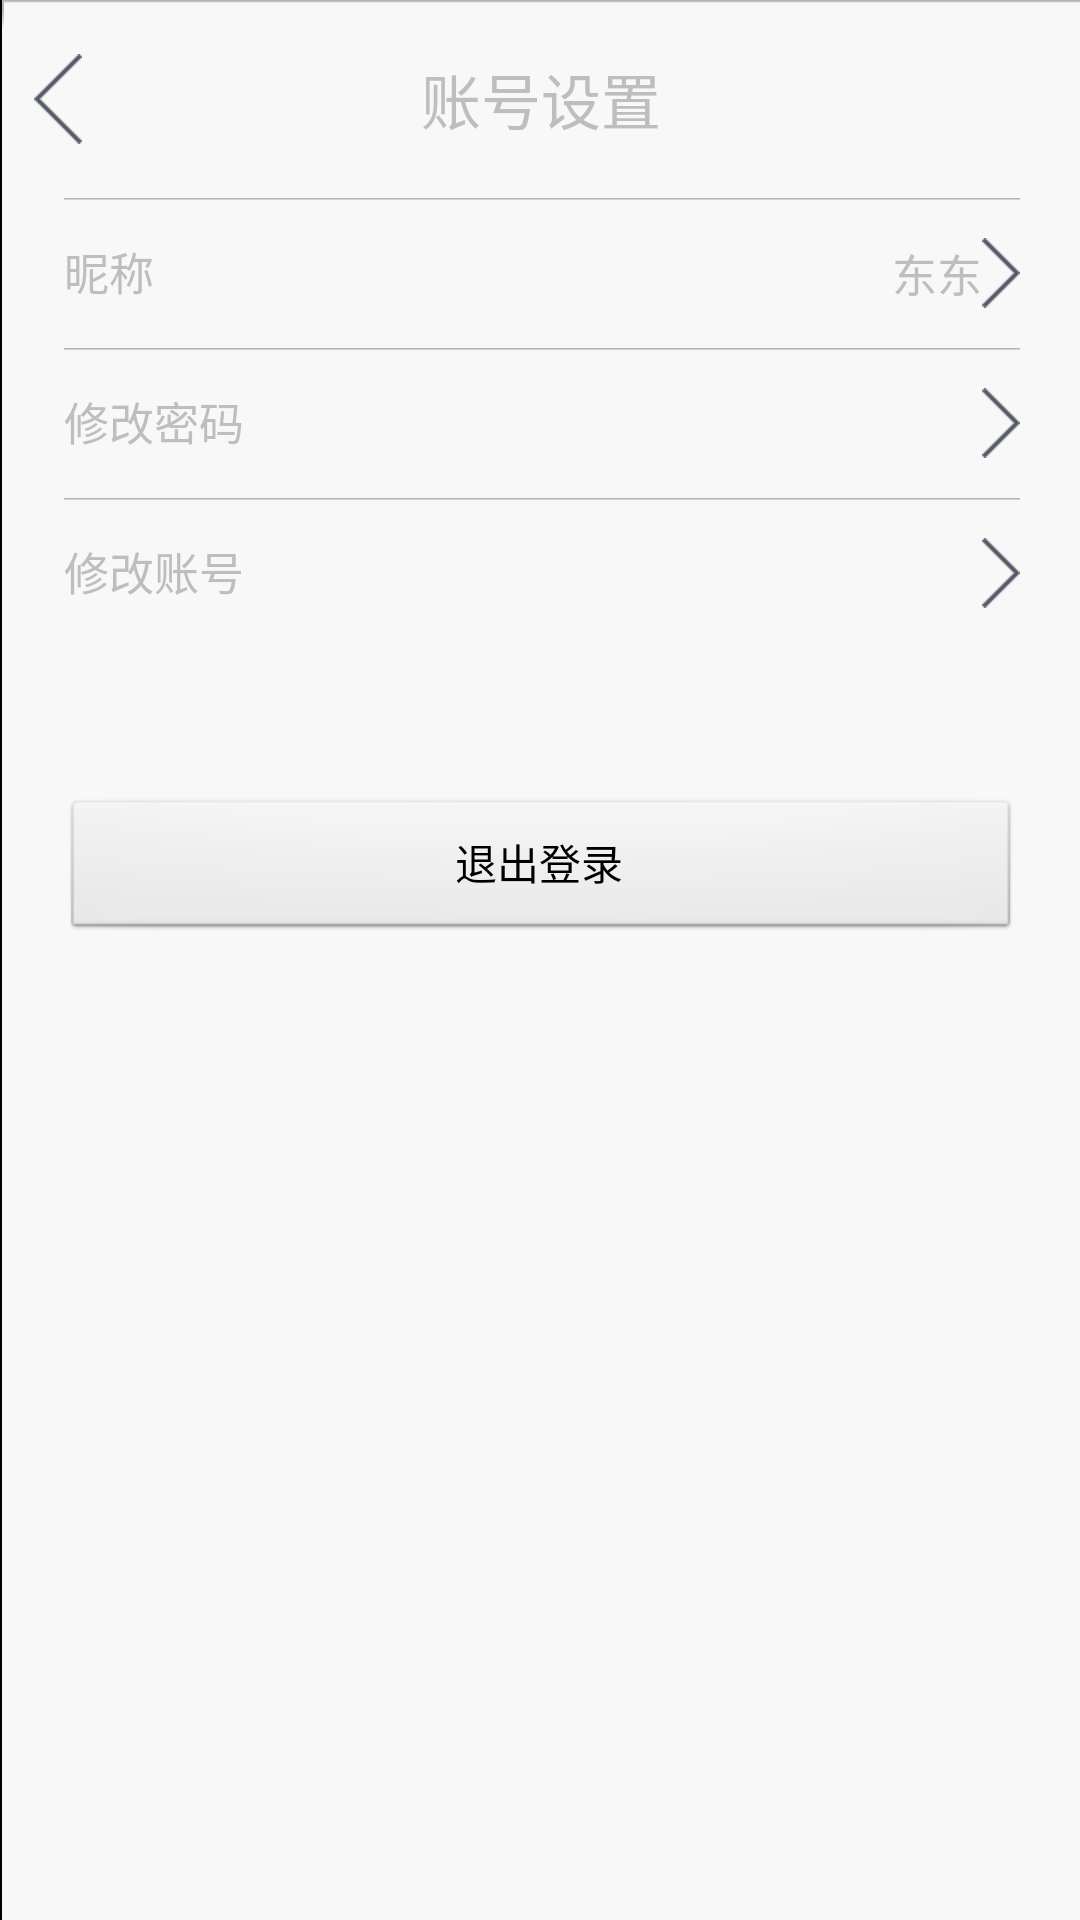

Icons on this 1080px×1920px Android screen, each with the point to tap as point (x, y):
back: point (58, 99)
